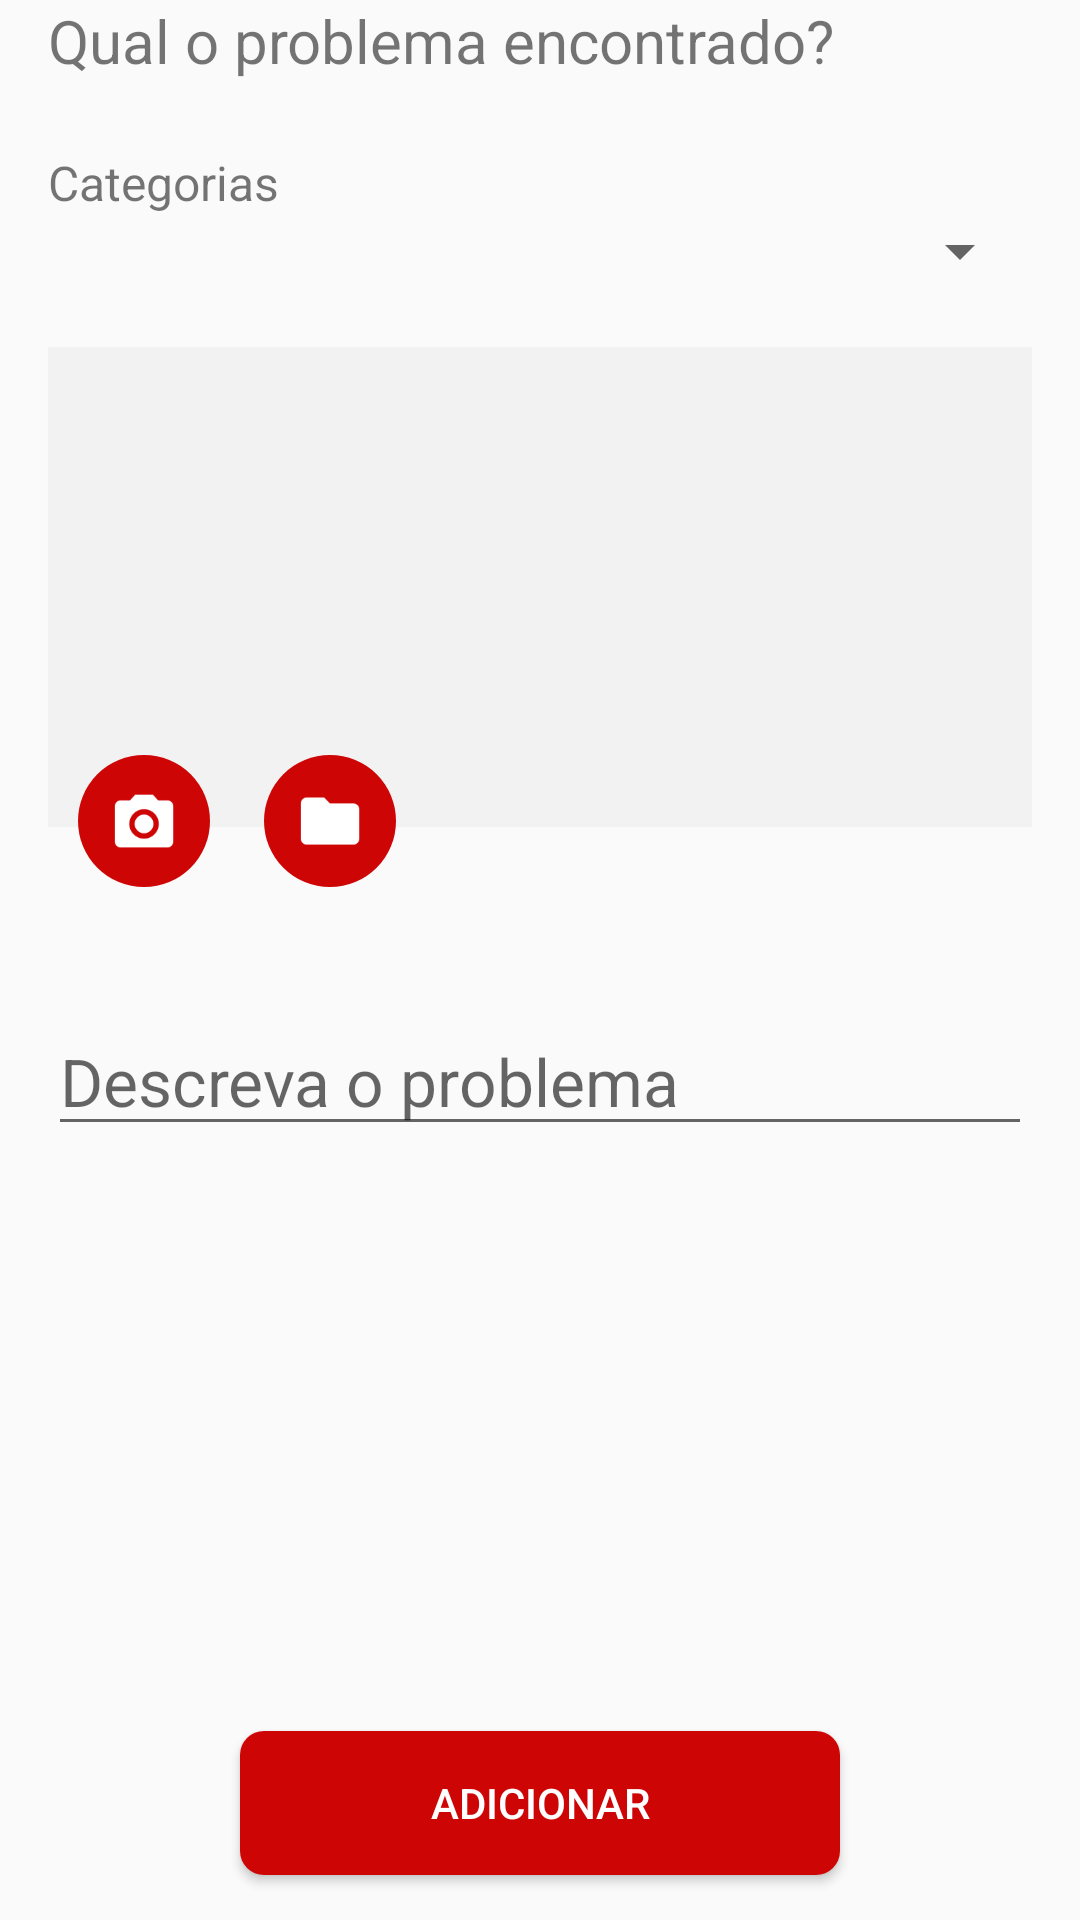

Named icons in this screenshot (1080w x 1920h) and their bounding boxes, (x1, y1, x2, y2):
camera: (78, 755, 210, 887)
folder: (264, 755, 396, 887)
